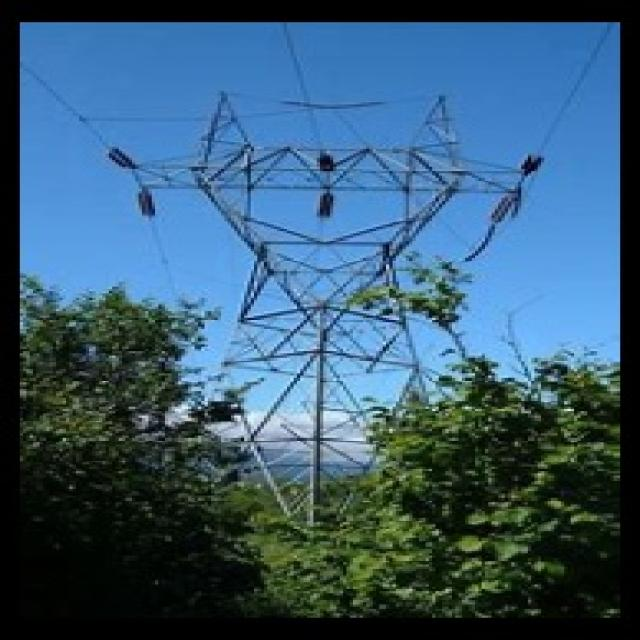utility poles: (328, 258, 537, 452), (130, 302, 289, 499)
